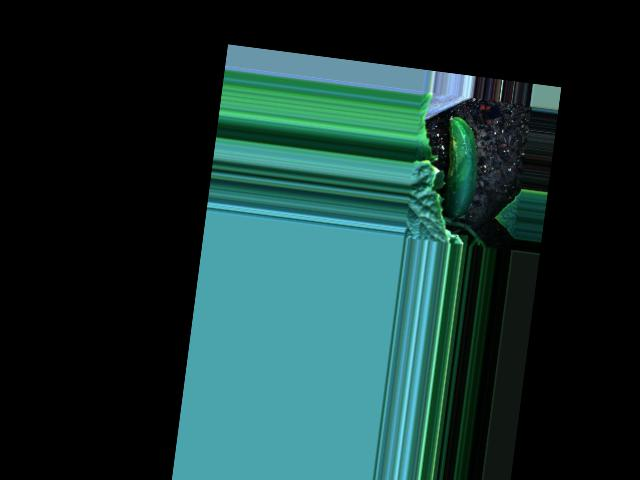cucumber: (436, 115, 484, 219)
